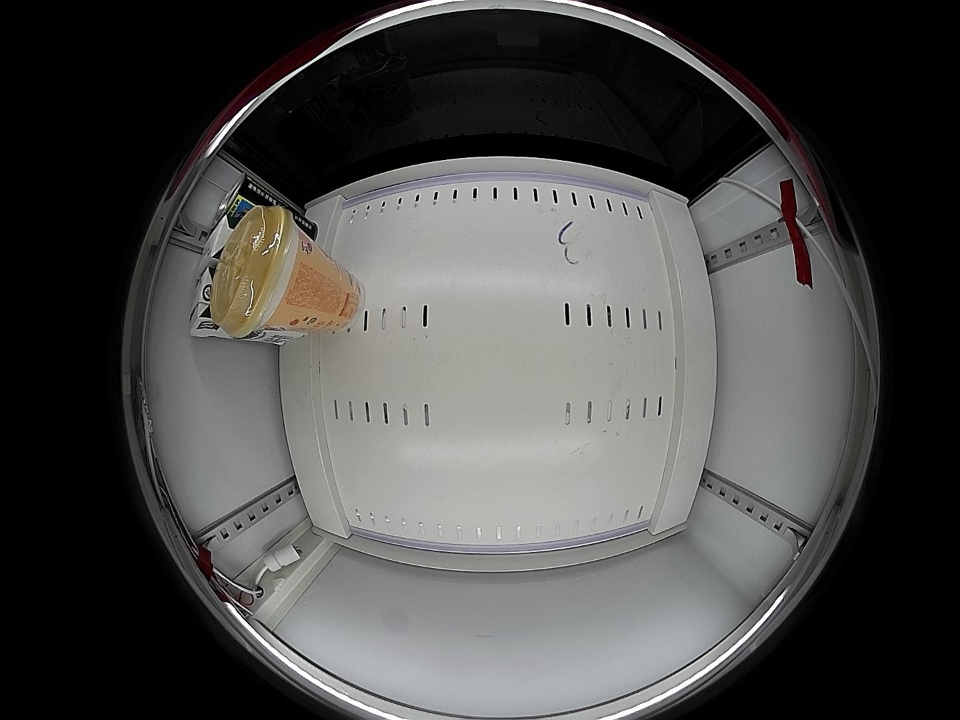jindian: (198, 216, 239, 279), (188, 267, 217, 341)
yezhi: (213, 173, 262, 225)
youlemei: (212, 203, 309, 340)
